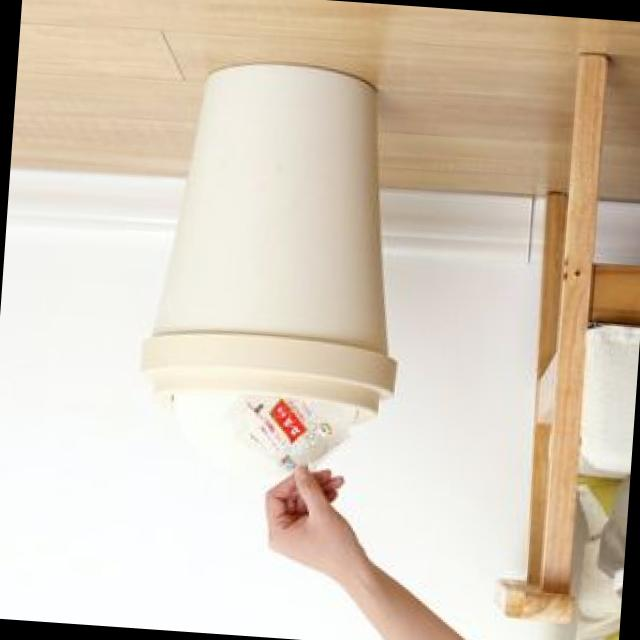dustbin: (124, 51, 422, 440)
